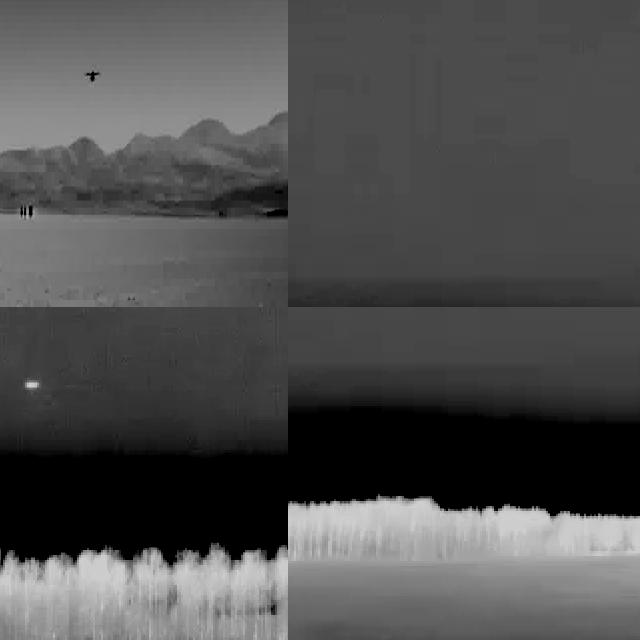1: (21, 378, 51, 398)
drone: (81, 61, 103, 93)
